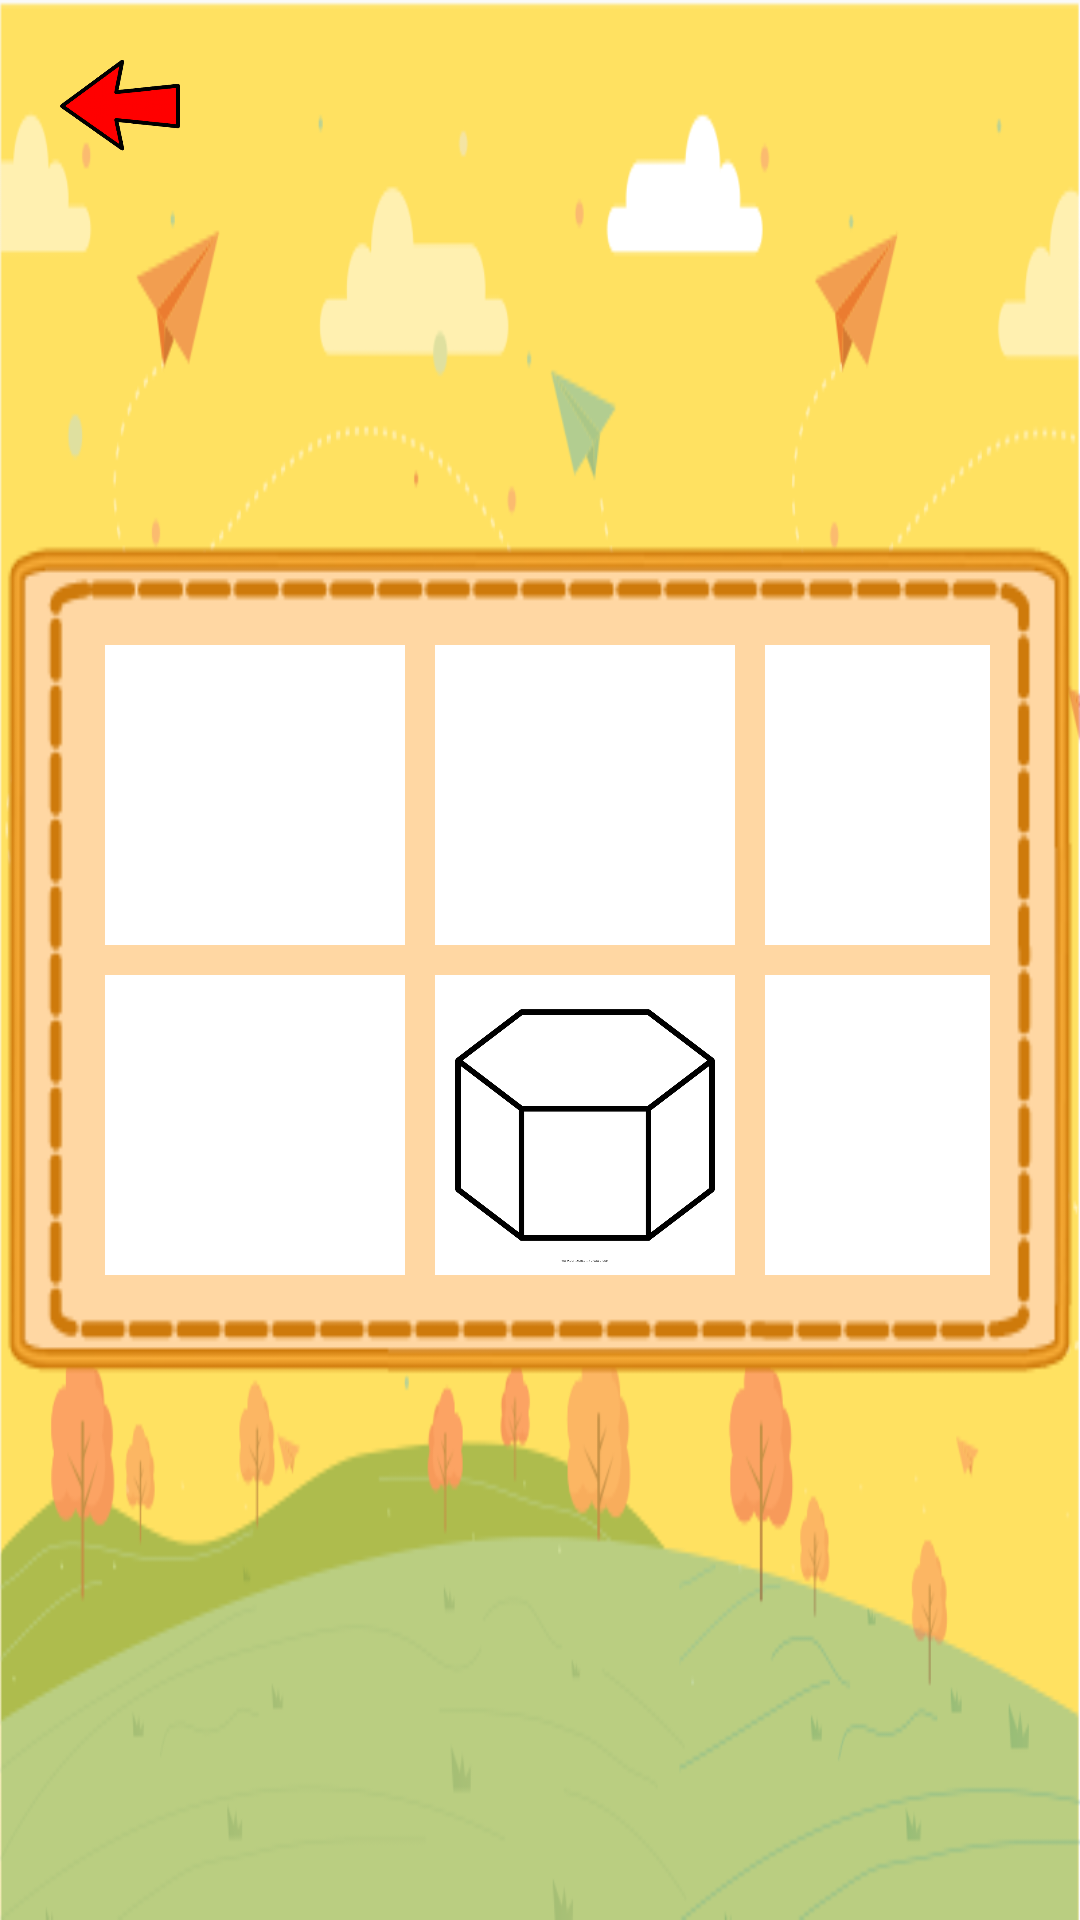

Screen size 1080 × 1920. Icon name, then its center in pixels as point (x, y):
back: point (120, 112)
game menu shapes five: point (585, 1125)
